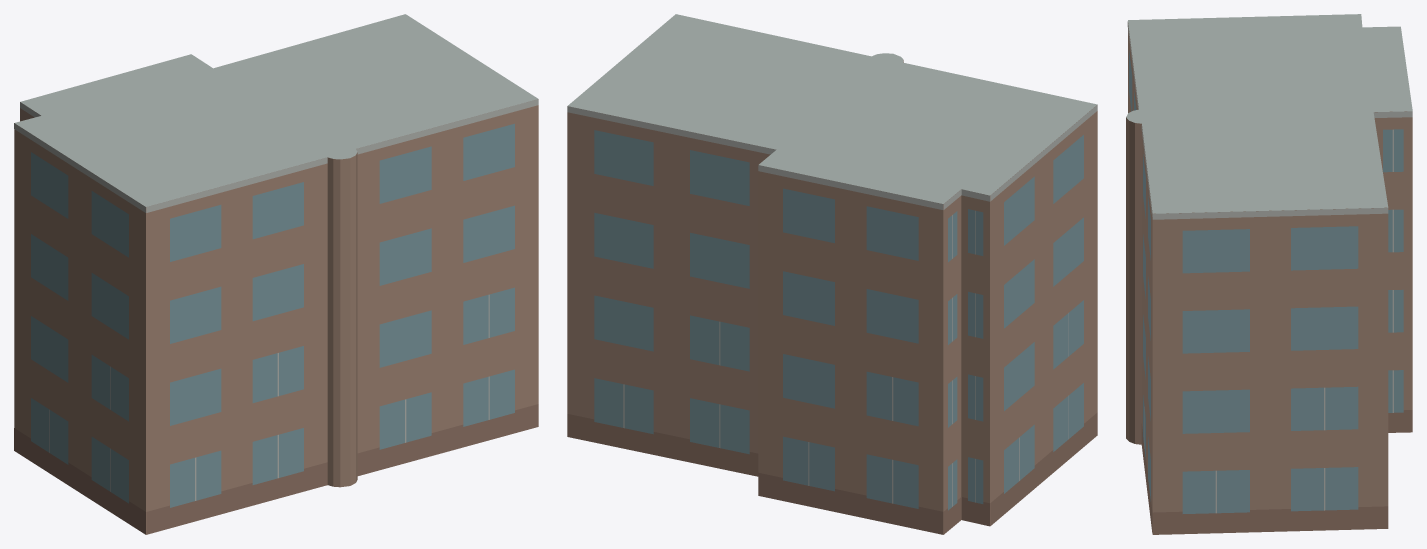
Rendered from survey-upis-32698382.glb.
3 views of the same model, side by side, from view 1: azimuth 30°, elevation 25°; view 2: azimuth 150°, elevation 25°; view 3: azimuth 270°, elevation 25° (orthographic). The views are drawn at different scales.
Parts seen in each view (by area): view 1: survey-upis-32698382.tmp; view 2: survey-upis-32698382.tmp; view 3: survey-upis-32698382.tmp.
Part boxes in pixels (bbox=[...]): survey-upis-32698382.tmp: bbox=[14, 14, 538, 534]; survey-upis-32698382.tmp: bbox=[567, 14, 1097, 534]; survey-upis-32698382.tmp: bbox=[1126, 14, 1412, 534].
Size of the model in its own units: 17.49 by 13.1 by 10.61.
